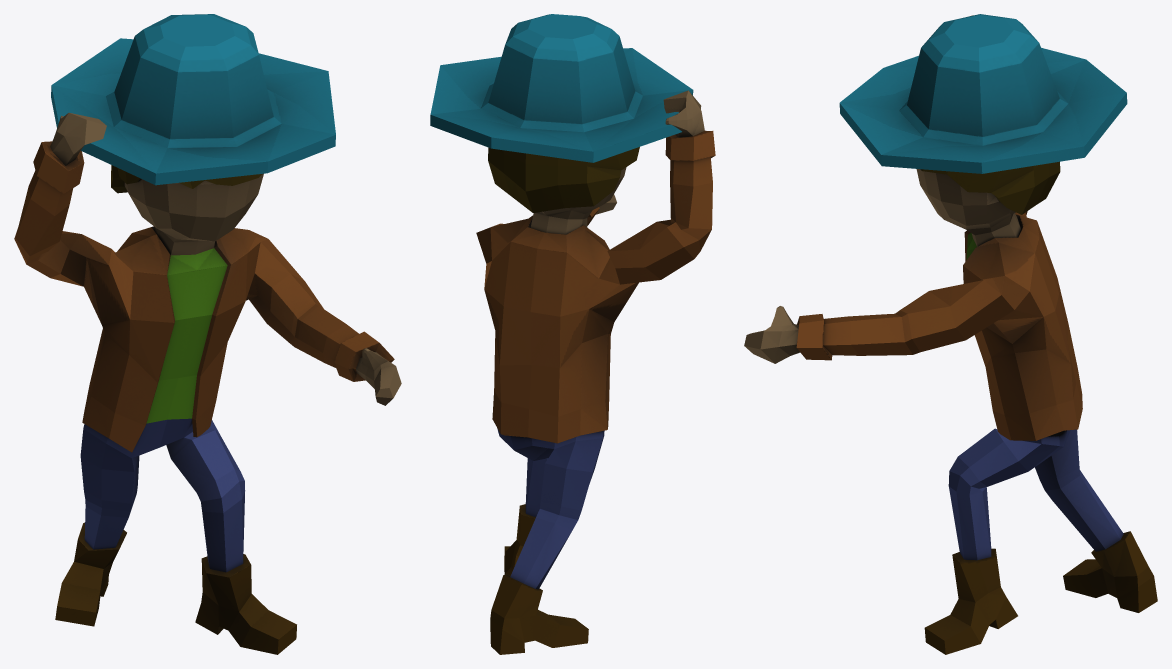
Rendered from man_textured.obj.
3 renders of one model, left to right at view 1: azimuth 30°, elevation 25°; view 2: azimuth 150°, elevation 25°; view 3: azimuth 270°, elevation 25°, orthographic. The views are drawn at different scales.
Visible parts, largest first — view 1: Cube_Cube.001; view 2: Cube_Cube.001; view 3: Cube_Cube.001.
Part boxes in pixels (<box>): Cube_Cube.001: <box>14,14,401,654</box>; Cube_Cube.001: <box>430,14,715,654</box>; Cube_Cube.001: <box>744,14,1157,654</box>.
Bounding box in the file's own units: 7.63 × 14.81 × 9.41.
Materials: 1 (1 with a texture image).
